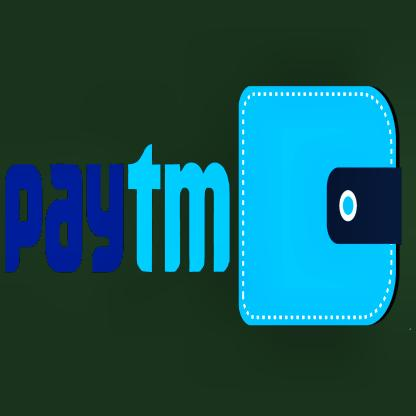Paytm: (6, 134, 230, 272)
